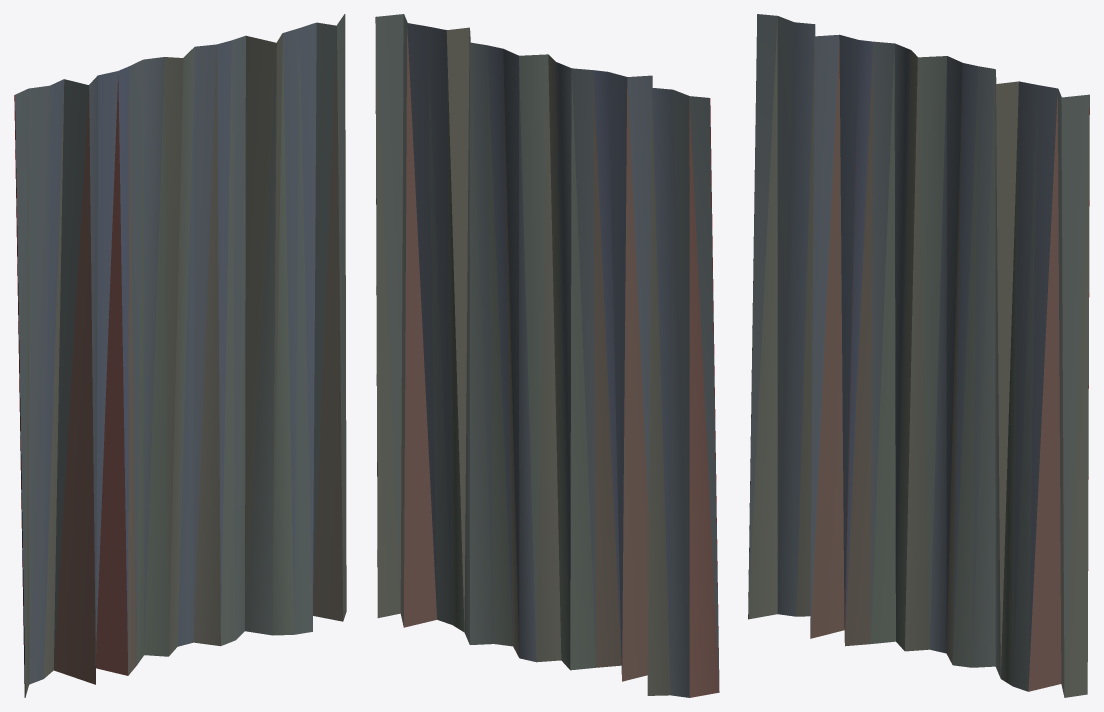
Rendered from curtain B.fbx.
The picture shows the model from 3 angles, left to right: view 1: azimuth 30°, elevation 25°; view 2: azimuth 150°, elevation 25°; view 3: azimuth 330°, elevation 25°; orthographic projection.
Visible parts, largest first — view 1: curtainB; view 2: curtainB; view 3: curtainB.
Part boxes in pixels (box(x1,y1,x2,y2)): curtainB: box(14, 14, 346, 697); curtainB: box(375, 14, 719, 697); curtainB: box(748, 14, 1089, 697).
Bounding box in the file's own units: 141 × 242 × 19.07.
